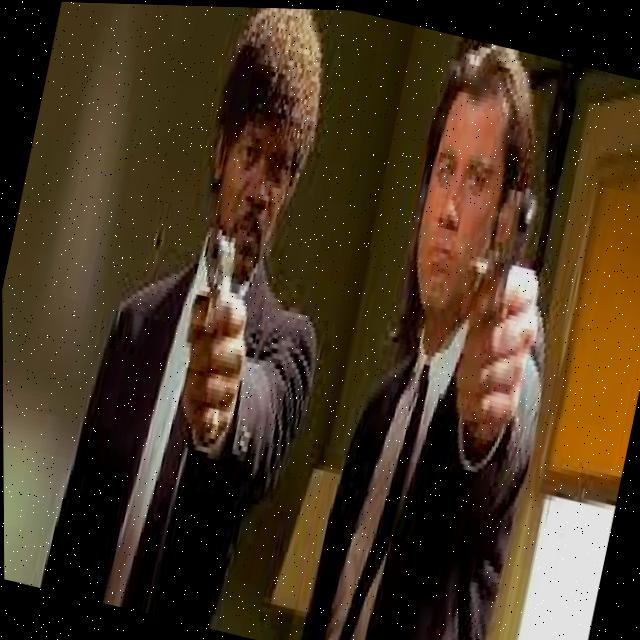pistol: (472, 169, 544, 331), (187, 223, 244, 343)
